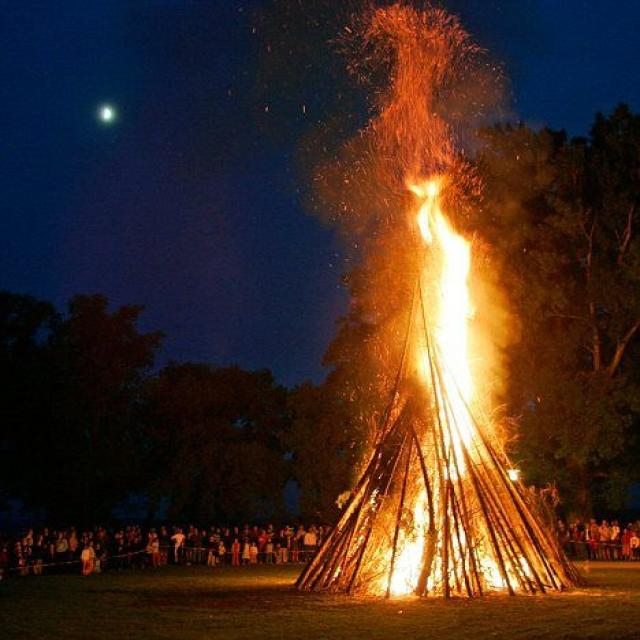fire: (296, 0, 581, 595)
